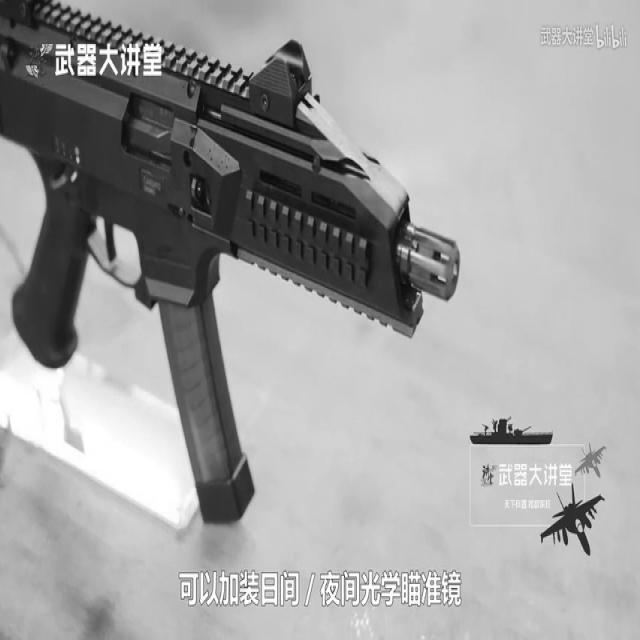Sub-machine-gun: (2, 3, 470, 529)
